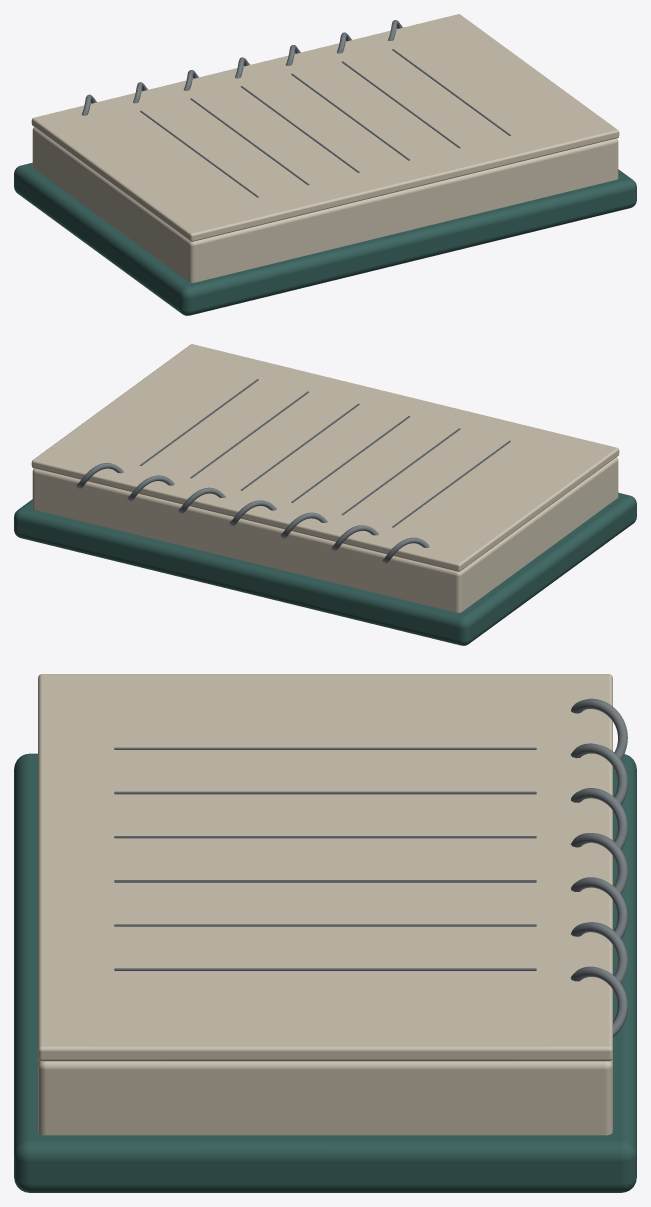
Rendered from workshop-notebook.glb.
3 renders of one model, top to bottom at view 1: azimuth 30°, elevation 25°; view 2: azimuth 150°, elevation 25°; view 3: azimuth 270°, elevation 25°, orthographic. The views are drawn at different scales.
Visible parts, largest first — view 1: Notebook; view 2: Notebook; view 3: Notebook.
Part boxes in pixels (<box>): Notebook: <box>14,14,636,315</box>; Notebook: <box>14,344,636,645</box>; Notebook: <box>14,674,636,1192</box>.
Size of the model in its own units: 0.235 by 0.0433 by 0.155.
